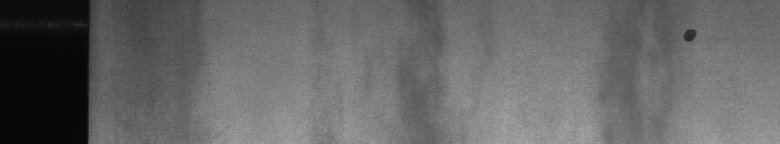fi: (676, 24, 703, 48)
